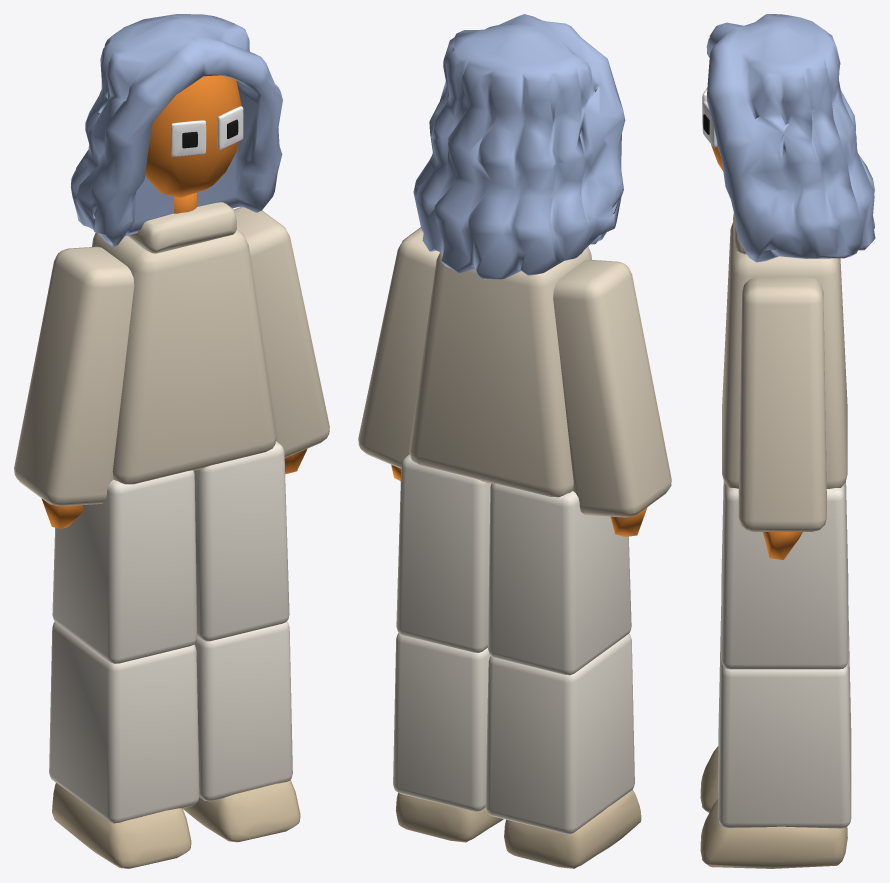
File: grace.efd28c89.glb
The picture shows the model from 3 angles, left to right: view 1: azimuth 30°, elevation 25°; view 2: azimuth 150°, elevation 25°; view 3: azimuth 270°, elevation 25°; orthographic projection.
Parts seen in each view (by area): view 1: Torso, ShinR, Hair, ArmR, LegR, ShinL, LegL, ArmL, Head, EyeL, EyeR; view 2: Hair, Torso, ShinR, ArmR, LegR, ShinL, LegL, ArmL; view 3: Hair, ShinL, ArmL, LegL, Torso, ShinR, LegR, EyeR.
Boxes of the visible parts, box(x1,y1,x2,y2) form: Torso: box(92, 193, 276, 484); ShinR: box(49, 622, 199, 868); Hair: box(70, 14, 282, 247); ArmR: box(14, 246, 134, 528); LegR: box(52, 470, 197, 663); ShinL: box(182, 621, 300, 842); LegL: box(194, 441, 289, 641); ArmL: box(234, 207, 329, 473); Head: box(145, 75, 243, 197); EyeL: box(171, 120, 206, 156); EyeR: box(217, 106, 243, 149); Hair: box(413, 14, 625, 279); Torso: box(409, 246, 591, 497); ShinR: box(485, 633, 641, 868); ArmR: box(553, 259, 671, 536); LegR: box(488, 483, 631, 675); ShinL: box(393, 633, 503, 842); LegL: box(396, 454, 490, 652); ArmL: box(358, 227, 439, 480); Hair: box(706, 14, 875, 262); ShinL: box(700, 651, 851, 868); ArmL: box(738, 277, 826, 559); LegL: box(721, 483, 848, 669); Torso: box(722, 213, 847, 488); ShinR: box(700, 606, 851, 812); LegR: box(721, 482, 848, 615); EyeR: box(702, 101, 717, 147).
Bounding box in the file's own units: 32.13 × 87.85 × 17.31.
